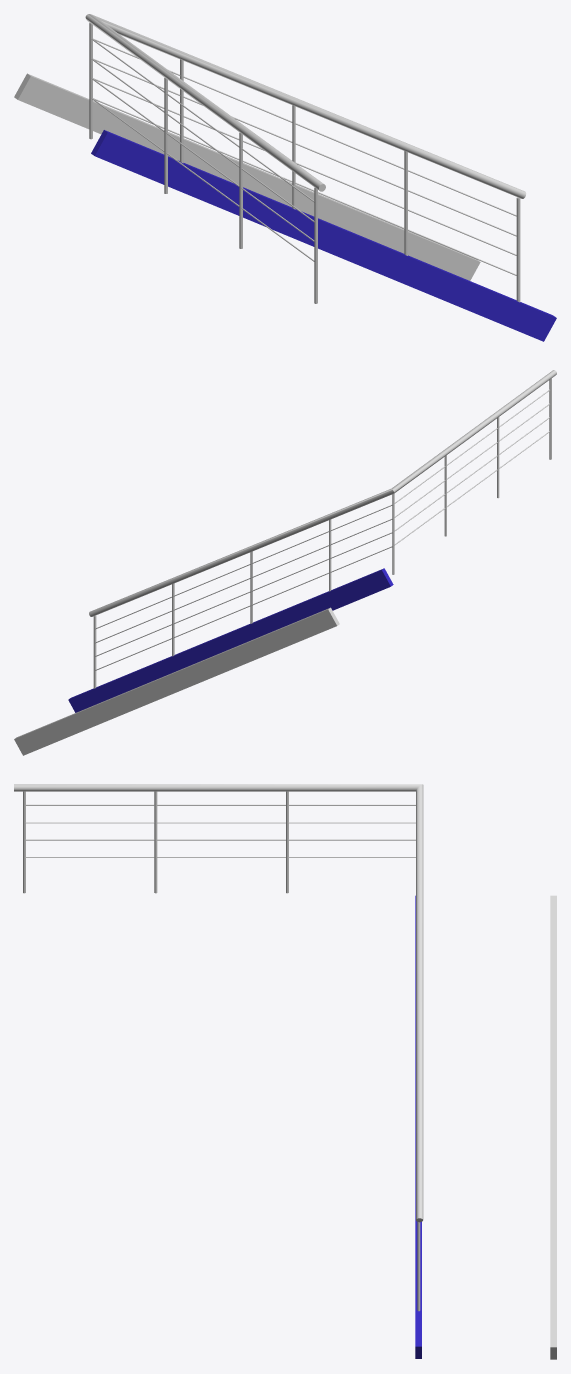
Rendered from Escaleras 1.fbx.
3 views of the same model, one above another, from view 1: azimuth 30°, elevation 25°; view 2: azimuth 150°, elevation 25°; view 3: azimuth 270°, elevation 25° (orthographic). The views are drawn at different scales.
Visible parts, largest first — view 1: Base_Escaleras_2, Base_Escaleras_1, Barandilla, Sweep_4_2, Sweep_1, Sweep_2_2, Sweep_3_2, Cylinder_0_2, Cylinder_3_2, Cylinder_0, Cylinder_2_2, Cylinder_1 (+1 smaller); view 2: Base_Escaleras_1, Base_Escaleras_2, Barandilla, Sweep_3_2, Sweep_4_2, Sweep_1, Sweep_2_2; view 3: Barandilla, Base_Escaleras_1, Base_Escaleras_2, Sweep_3_2, Sweep_1, Sweep_2_2.
Part boxes in pixels (x1,y1,x2,y2): Base_Escaleras_2: [91, 130, 556, 341]; Base_Escaleras_1: [14, 73, 480, 280]; Barandilla: [85, 14, 526, 198]; Sweep_4_2: [92, 98, 516, 275]; Sweep_1: [91, 38, 516, 216]; Sweep_2_2: [91, 58, 516, 236]; Sweep_3_2: [92, 78, 516, 255]; Cylinder_0_2: [516, 197, 520, 302]; Cylinder_3_2: [314, 187, 317, 303]; Cylinder_0: [89, 22, 92, 139]; Cylinder_2_2: [239, 132, 242, 248]; Cylinder_1: [164, 77, 167, 193]; Base_Escaleras_1: [14, 607, 339, 755]; Base_Escaleras_2: [68, 568, 393, 712]; Barandilla: [89, 370, 556, 616]; Sweep_3_2: [95, 417, 549, 656]; Sweep_4_2: [95, 431, 549, 670]; Sweep_1: [95, 389, 549, 629]; Sweep_2_2: [95, 403, 549, 643]; Barandilla: [14, 784, 423, 1222]; Base_Escaleras_1: [550, 895, 556, 1359]; Base_Escaleras_2: [415, 895, 421, 1358]; Sweep_3_2: [25, 839, 415, 840]; Sweep_1: [25, 804, 415, 805]; Sweep_2_2: [26, 822, 415, 823].
Size of the model in its own units: 6060 by 5394 by 6950.
